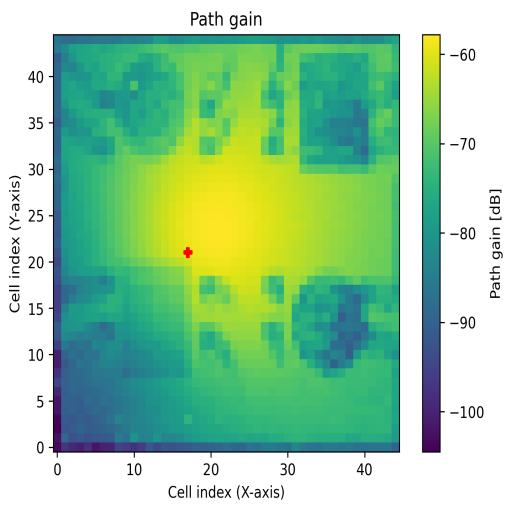Concrete: (300, 52, 375, 172)
Glass: (114, 54, 184, 155)
Metal: (292, 276, 376, 378)
Wood: (116, 258, 192, 377)
